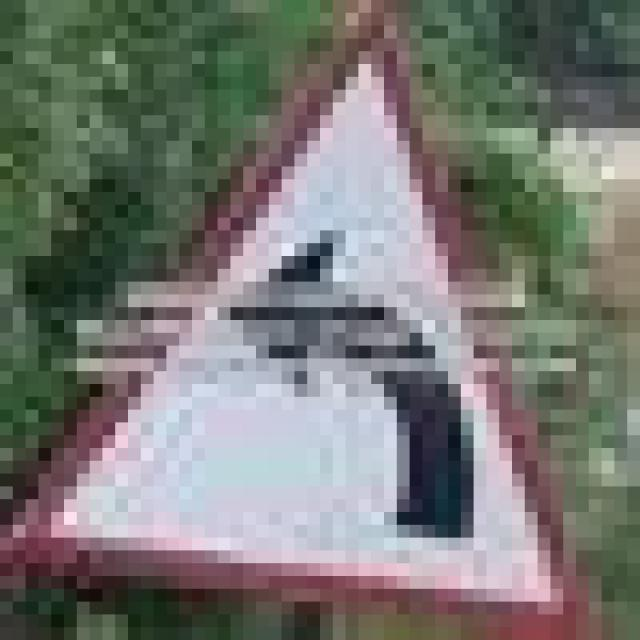LEFT_HAND_CURVE: (0, 0, 589, 627)
